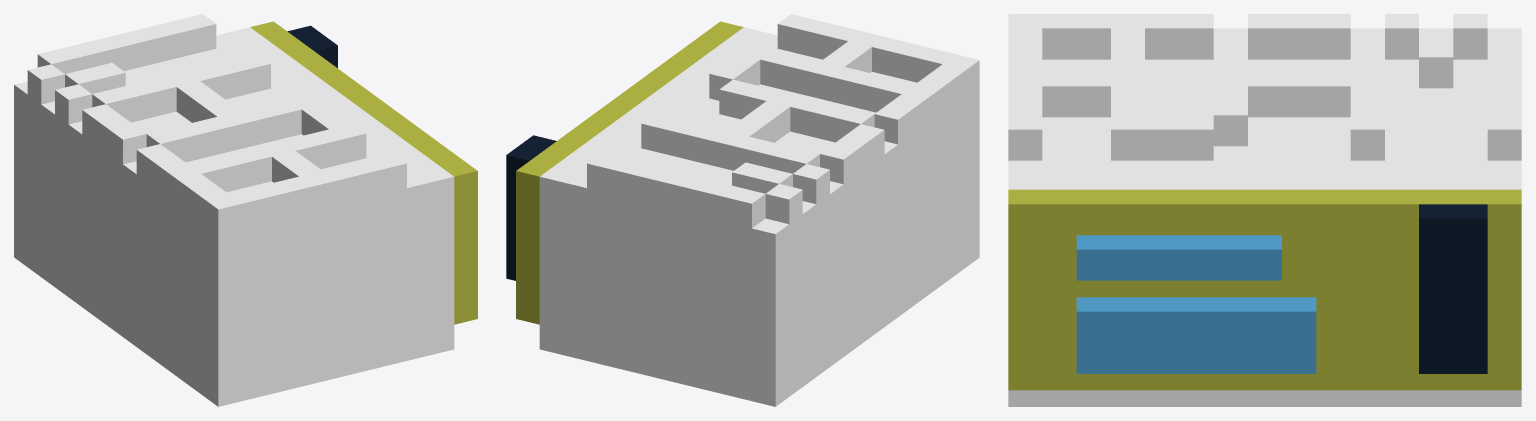
The picture shows the model from 3 angles, left to right: view 1: azimuth 30°, elevation 25°; view 2: azimuth 150°, elevation 25°; view 3: azimuth 270°, elevation 25°; orthographic projection. The views are drawn at different scales.
Visible parts, largest first — view 1: unnamed; view 2: unnamed; view 3: unnamed.
Part boxes in pixels (box(x1,y1,x2,y2)): unnamed: box(14, 14, 477, 406); unnamed: box(506, 14, 979, 406); unnamed: box(1008, 14, 1521, 406).
Bounding box in the file's own units: 12 × 8 × 15.
4 materials, 4 textured.
